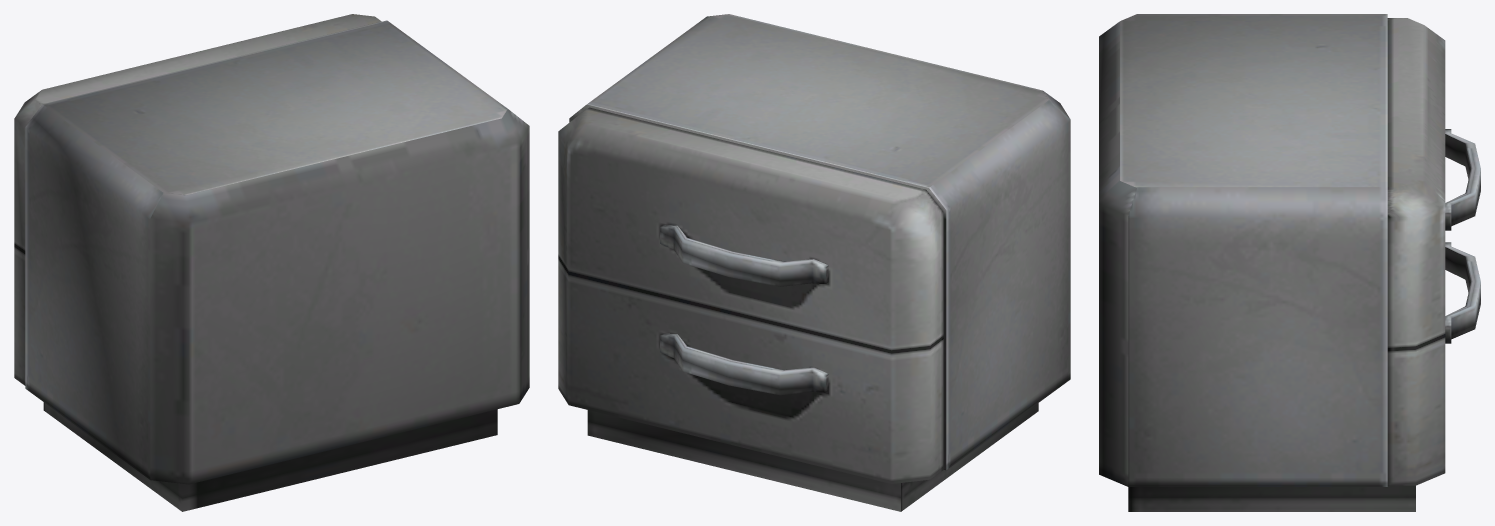
File: bedside1.glb
The picture shows the model from 3 angles, left to right: view 1: azimuth 30°, elevation 25°; view 2: azimuth 150°, elevation 25°; view 3: azimuth 270°, elevation 25°; orthographic projection. The views are drawn at different scales.
Parts seen in each view (by area): view 1: __lithtech_lh_to_gltf_rh__; view 2: __lithtech_lh_to_gltf_rh__; view 3: __lithtech_lh_to_gltf_rh__.
Part boxes in pixels (x1,y1,x2,y2): __lithtech_lh_to_gltf_rh__: (14, 14, 529, 511); __lithtech_lh_to_gltf_rh__: (558, 14, 1070, 511); __lithtech_lh_to_gltf_rh__: (1099, 14, 1480, 511).
Bounding box in the file's own units: 32.54 × 26.19 × 27.37.
1 material, 1 textured.
